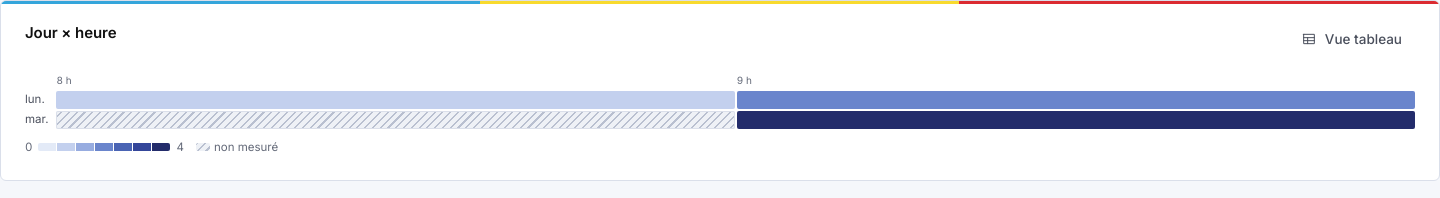
Test case: cartes de chaleur › MatrixHeat : lignes × colonnes, cellules lues au clavier
Expected: the picture named "mar., 8 h : non mesuré" is shown, [56,110,735,128]
Step 1. Focus the picture named "lun., 9 h : 2" → (1076, 100), box [737,90,1415,108]
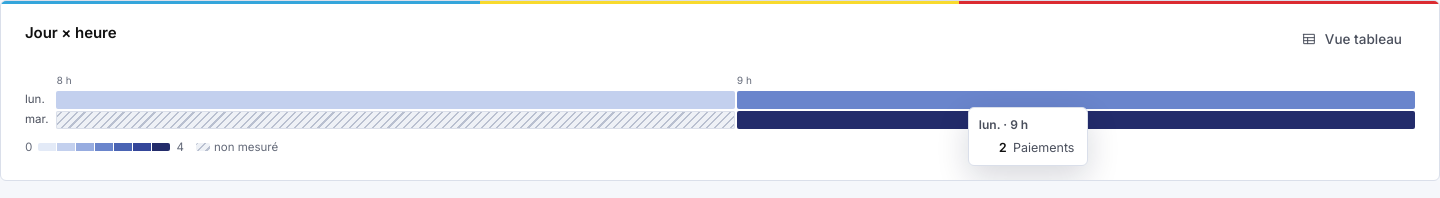
Expected: the tooltip shows "lun. · 9 h", [979,116,1028,132]
